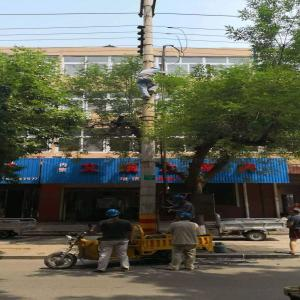blue: (107, 210, 121, 219), (179, 214, 193, 222), (173, 196, 186, 204)
none: (289, 210, 300, 217)
